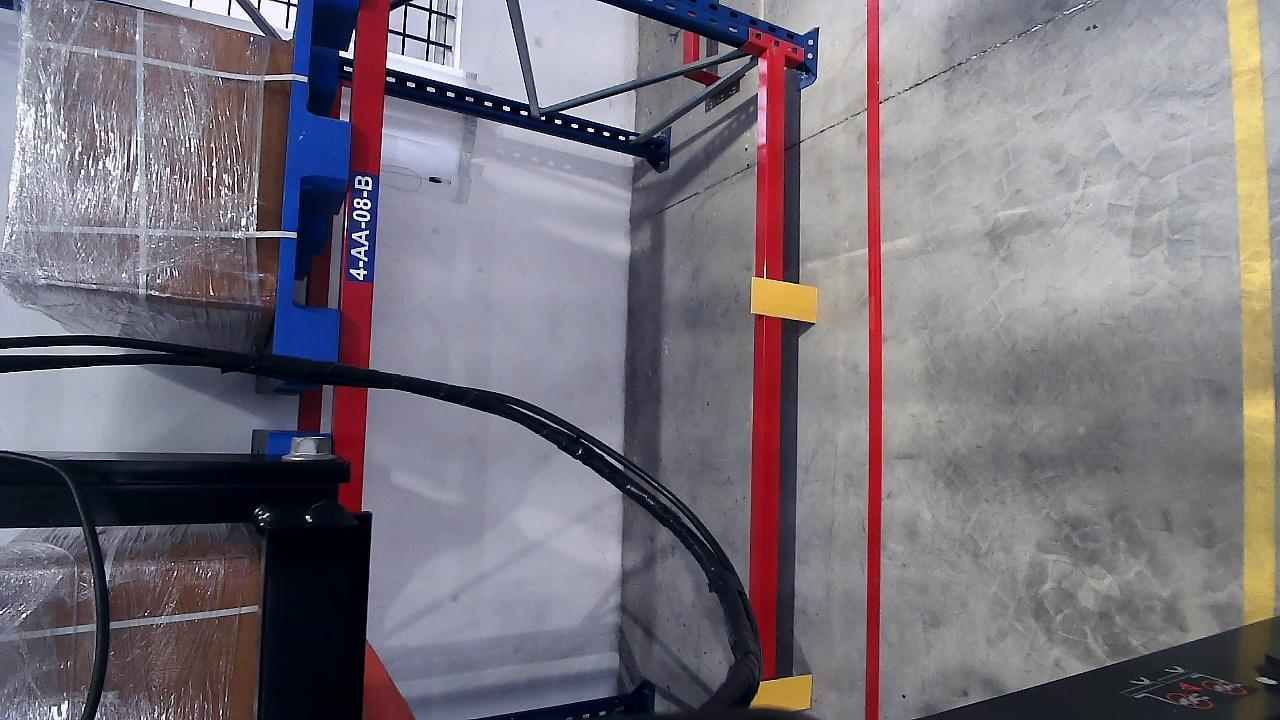red_line: (858, 2, 889, 720)
yellow_line: (1231, 0, 1278, 616)
